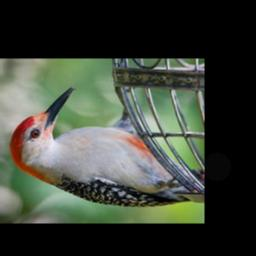Woodpecker: (10, 87, 203, 208)
